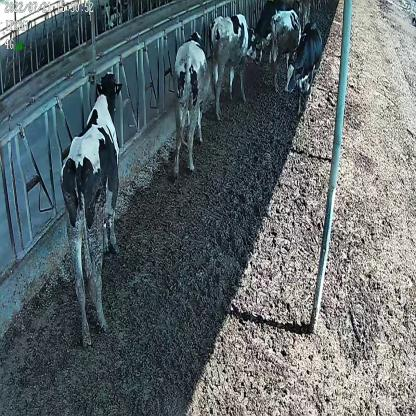cow: (59, 69, 123, 346), (173, 31, 210, 177), (210, 11, 256, 120), (282, 21, 324, 111), (269, 13, 302, 90)
